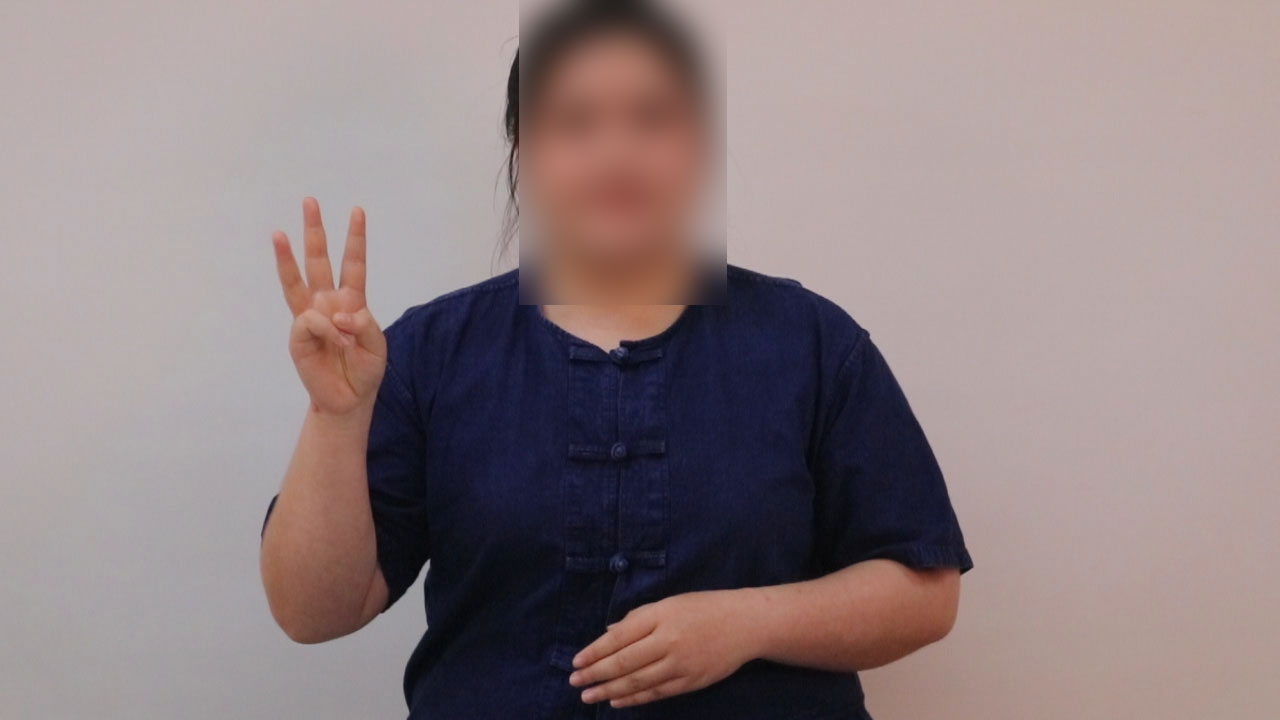wor: (258, 187, 398, 415)
